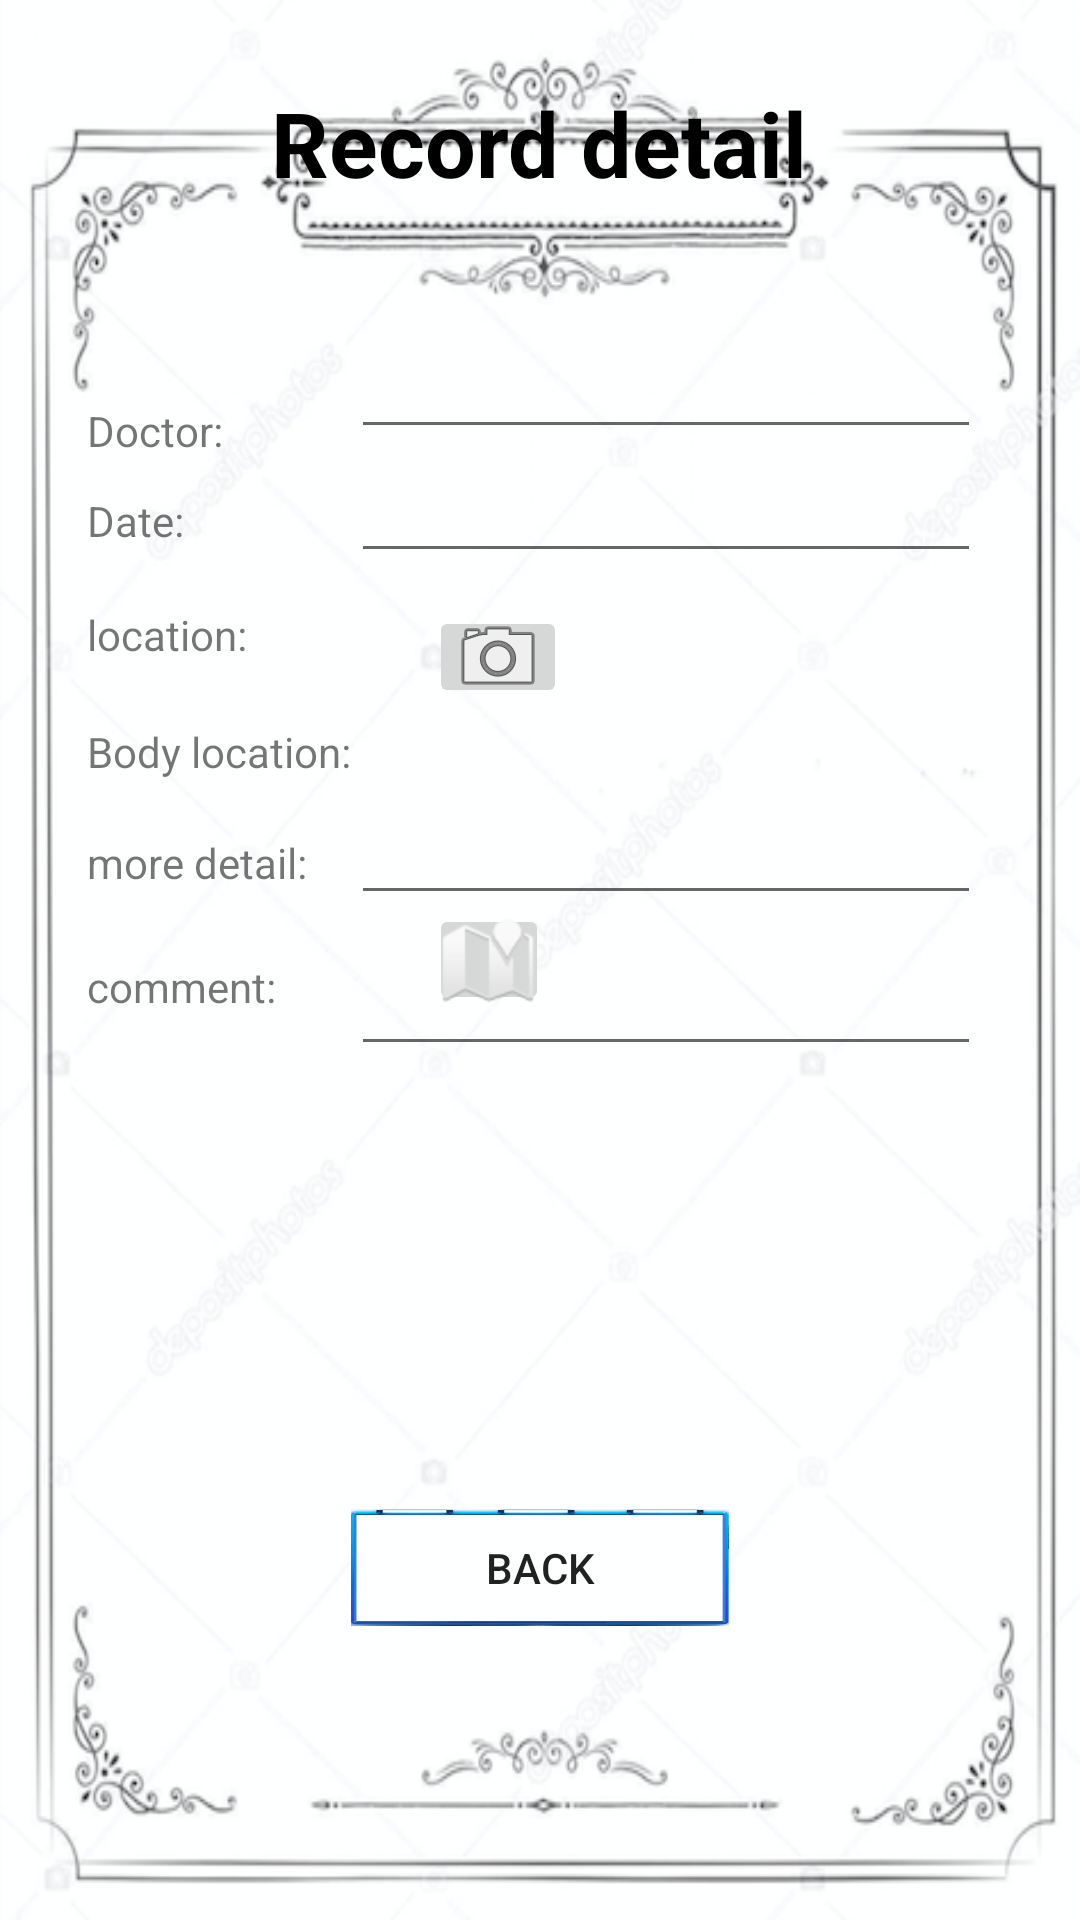

Icon bounding boxes for this 1080w x 1920h phone screenshot, format (x1, y1, x2, y2):
camera: (441, 624, 555, 690)
map: (441, 922, 537, 1002)
